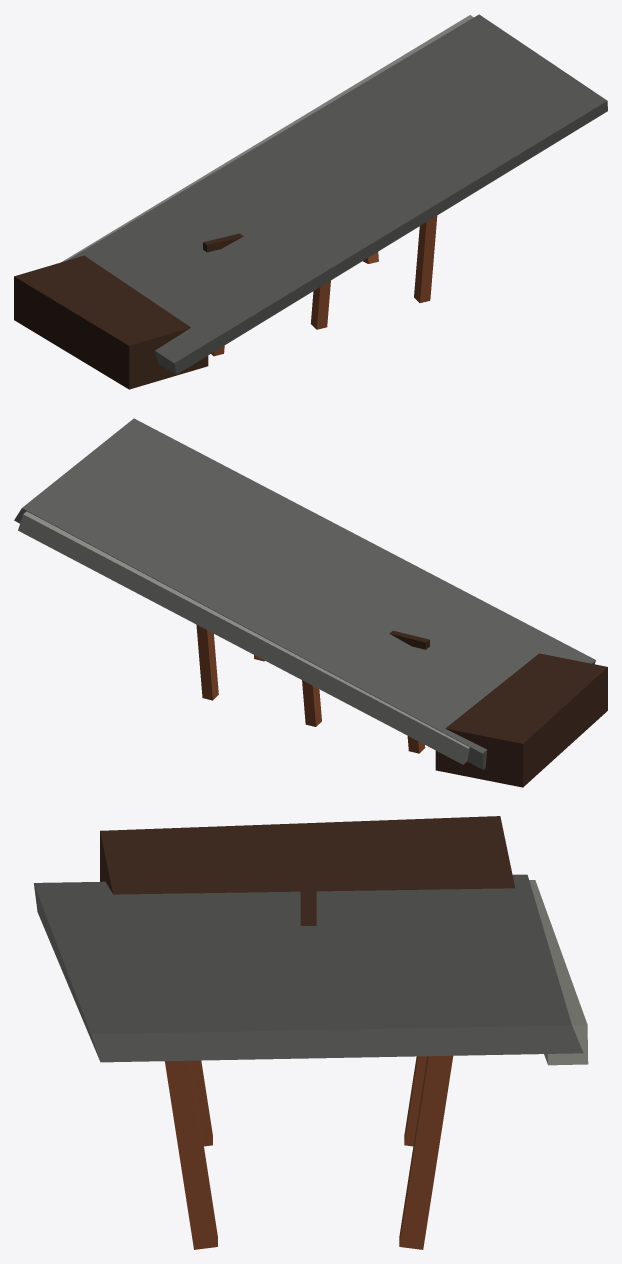
File: wing_shard.glb
The picture shows the model from 3 angles, top to bottom: view 1: azimuth 30°, elevation 25°; view 2: azimuth 150°, elevation 25°; view 3: azimuth 270°, elevation 25°; orthographic projection. The views are drawn at different scales.
Parts seen in each view (by area): view 1: wing_shard; view 2: wing_shard; view 3: wing_shard.
Part boxes in pixels (bbox=[...]): wing_shard: bbox=[14, 14, 607, 389]; wing_shard: bbox=[14, 418, 607, 787]; wing_shard: bbox=[34, 816, 588, 1249].
Size of the model in its own units: 14.2 by 5.01 by 6.9.
